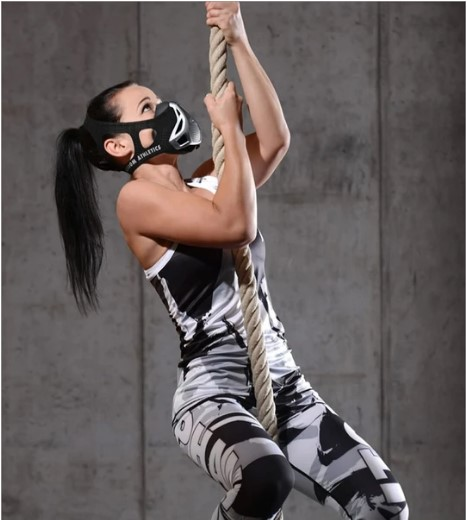face_with_mask: (86, 84, 205, 170)
